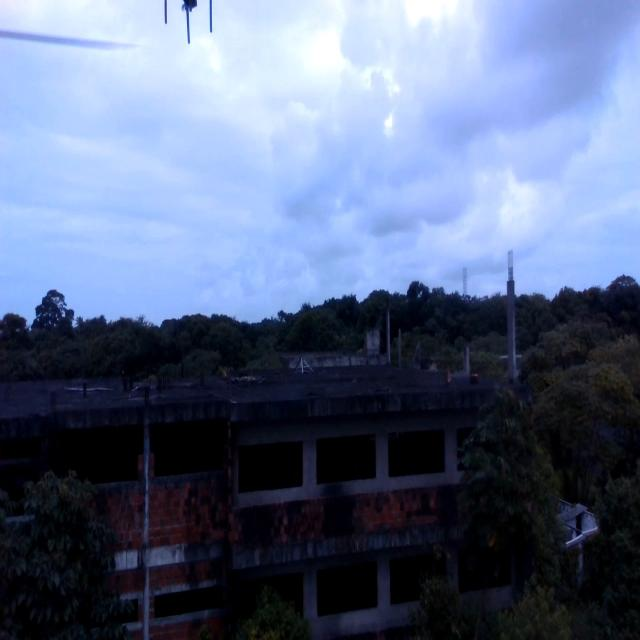-uav-: (158, 0, 221, 50)
